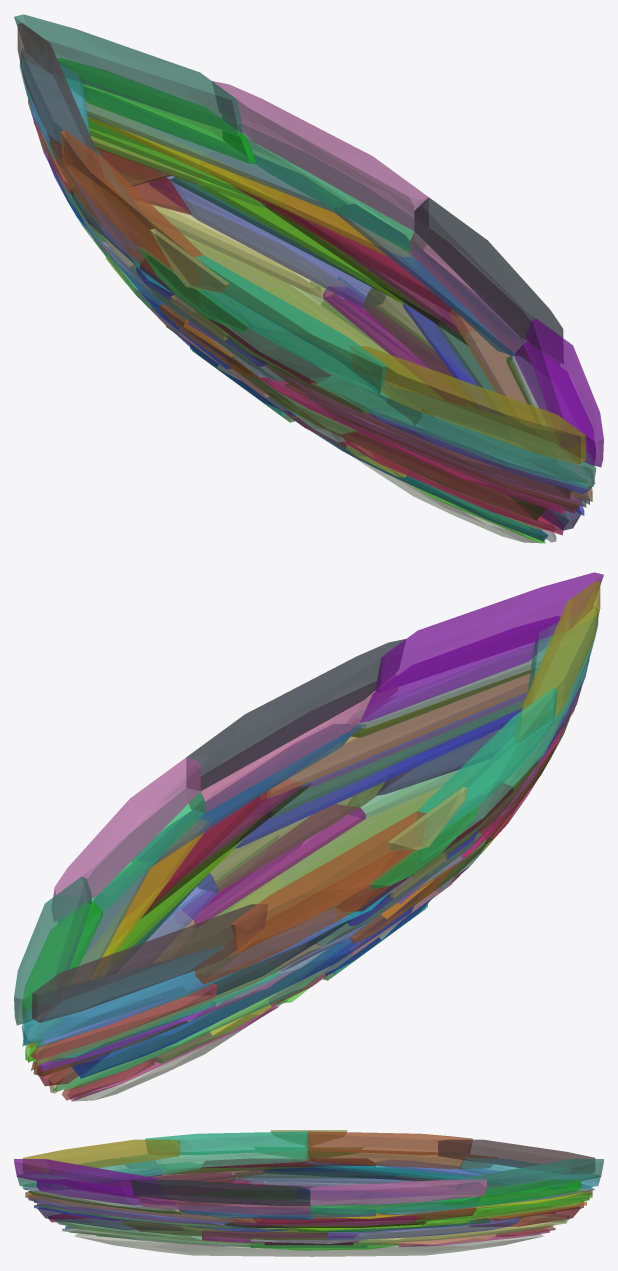
The picture shows the model from 3 angles, top to bottom: view 1: azimuth 30°, elevation 25°; view 2: azimuth 150°, elevation 25°; view 3: azimuth 270°, elevation 25°; orthographic projection. The views are drawn at different scales.
Visible parts, largest first — view 1: Shape_IndexedFaceSet.097, Shape_IndexedFaceSet.042, Shape_IndexedFaceSet.041, Shape_IndexedFaceSet.043, Shape_IndexedFaceSet.045, Shape_IndexedFaceSet.040, Shape_IndexedFaceSet.035, Shape_IndexedFaceSet.033, Shape_IndexedFaceSet.029, Shape_IndexedFaceSet.034, Shape_IndexedFaceSet.049, Shape_IndexedFaceSet.094 (+59 smaller); view 2: Shape_IndexedFaceSet.097, Shape_IndexedFaceSet.044, Shape_IndexedFaceSet.045, Shape_IndexedFaceSet.039, Shape_IndexedFaceSet.038, Shape_IndexedFaceSet.043, Shape_IndexedFaceSet.031, Shape_IndexedFaceSet.037, Shape_IndexedFaceSet.036, Shape_IndexedFaceSet.030, Shape_IndexedFaceSet.086, Shape_IndexedFaceSet.051 (+59 smaller); view 3: Shape_IndexedFaceSet, Shape_IndexedFaceSet.045, Shape_IndexedFaceSet.043, Shape_IndexedFaceSet.038, Shape_IndexedFaceSet.040, Shape_IndexedFaceSet.041, Shape_IndexedFaceSet.039, Shape_IndexedFaceSet.044, Shape_IndexedFaceSet.042, Shape_IndexedFaceSet.030, Shape_IndexedFaceSet.032, Shape_IndexedFaceSet.037 (+59 smaller).
Boxes of the visible parts, box(x1,y1,x2,y2) form: Shape_IndexedFaceSet.097: box(148, 206, 555, 530); Shape_IndexedFaceSet.042: box(14, 14, 242, 134); Shape_IndexedFaceSet.041: box(350, 346, 585, 464); Shape_IndexedFaceSet.043: box(212, 81, 428, 230); Shape_IndexedFaceSet.045: box(414, 197, 563, 363); Shape_IndexedFaceSet.040: box(194, 255, 387, 395); Shape_IndexedFaceSet.035: box(222, 116, 425, 252); Shape_IndexedFaceSet.033: box(387, 387, 596, 486); Shape_IndexedFaceSet.029: box(70, 86, 346, 212); Shape_IndexedFaceSet.034: box(58, 58, 257, 164); Shape_IndexedFaceSet.049: box(149, 169, 385, 308); Shape_IndexedFaceSet.094: box(133, 183, 348, 298); Shape_IndexedFaceSet.097: box(65, 769, 480, 1090); Shape_IndexedFaceSet.044: box(375, 572, 603, 692); Shape_IndexedFaceSet.045: box(186, 639, 405, 790); Shape_IndexedFaceSet.039: box(32, 904, 267, 1022); Shape_IndexedFaceSet.038: box(230, 811, 426, 953); Shape_IndexedFaceSet.043: box(52, 757, 200, 921); Shape_IndexedFaceSet.031: box(21, 945, 230, 1044); Shape_IndexedFaceSet.037: box(189, 673, 397, 812); Shape_IndexedFaceSet.036: box(359, 616, 560, 722); Shape_IndexedFaceSet.030: box(195, 850, 420, 984); Shape_IndexedFaceSet.086: box(258, 670, 530, 799); Shape_IndexedFaceSet.051: box(198, 764, 413, 892); Shape_IndexedFaceSet: box(74, 1233, 543, 1256); Shape_IndexedFaceSet.045: box(131, 1179, 310, 1205); Shape_IndexedFaceSet.043: box(310, 1179, 486, 1205); Shape_IndexedFaceSet.038: box(306, 1131, 472, 1155); Shape_IndexedFaceSet.040: box(145, 1131, 309, 1155); Shape_IndexedFaceSet.041: box(22, 1139, 179, 1173); Shape_IndexedFaceSet.039: box(438, 1139, 595, 1173); Shape_IndexedFaceSet.044: box(14, 1159, 161, 1194); Shape_IndexedFaceSet.042: box(456, 1159, 603, 1194); Shape_IndexedFaceSet.030: box(306, 1148, 493, 1169); Shape_IndexedFaceSet.032: box(123, 1148, 309, 1169); Shape_IndexedFaceSet.037: box(137, 1195, 310, 1214).
Bounding box in the file's own units: 0.2325 × 0.1713 × 0.9626.
